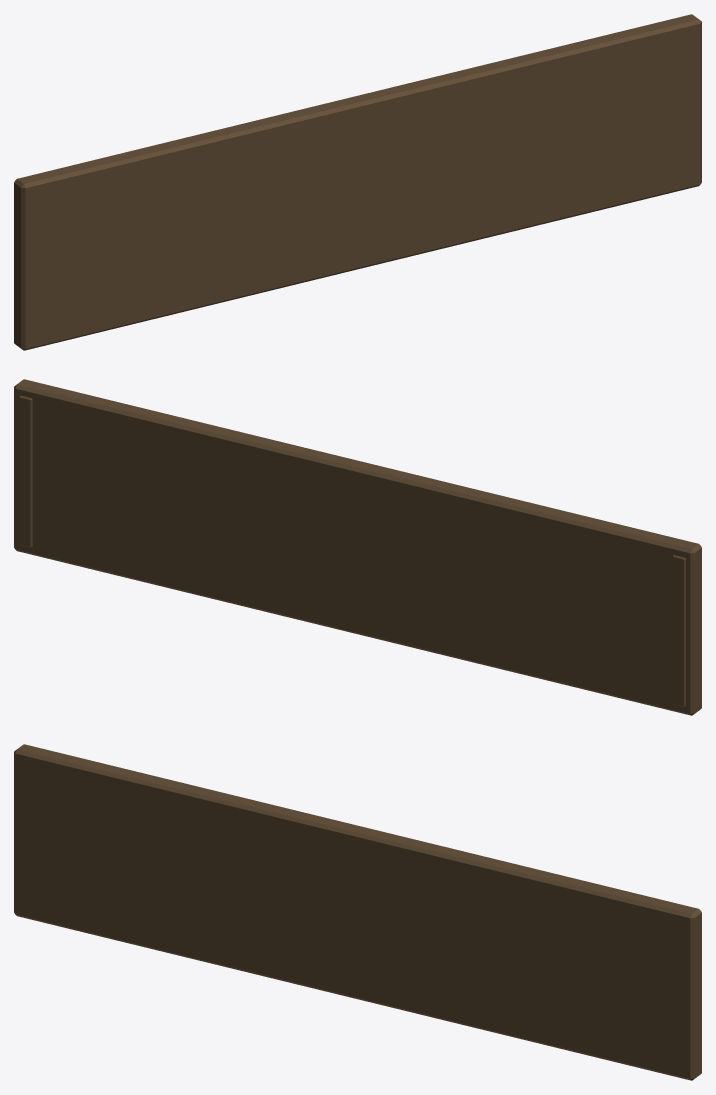
Rendered from timber-plaque-lod1.fbx.
The picture shows the model from 3 angles, top to bottom: view 1: azimuth 30°, elevation 25°; view 2: azimuth 150°, elevation 25°; view 3: azimuth 330°, elevation 25°; orthographic projection.
Parts seen in each view (by area): view 1: Eased altar count plaque body; view 2: Eased altar count plaque body, Count plaque decorative edge shoulder, Count plaque decorative edge shoulder.001; view 3: Eased altar count plaque body.
Boxes of the visible parts, <box> form: Eased altar count plaque body: <box>14,14,701,350</box>; Eased altar count plaque body: <box>14,379,701,715</box>; Count plaque decorative edge shoulder: <box>19,395,32,547</box>; Count plaque decorative edge shoulder.001: <box>672,555,685,707</box>; Eased altar count plaque body: <box>14,744,701,1080</box>.
Size of the model in its own units: 94 by 22 by 2.75.
